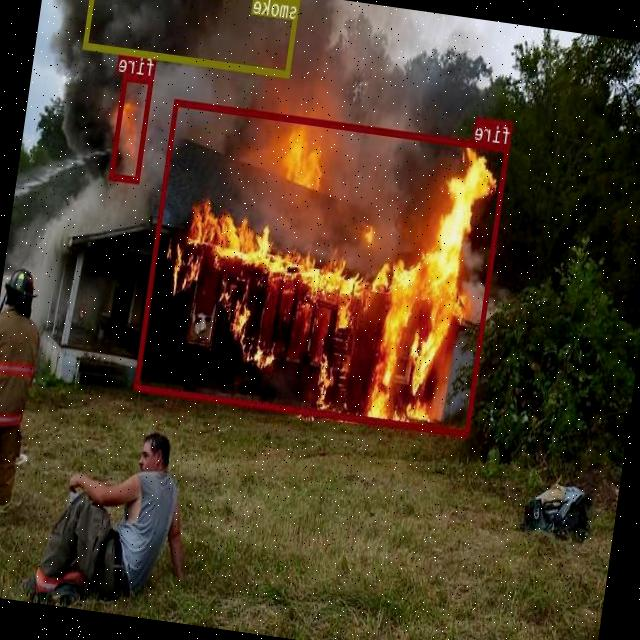fire: (134, 98, 510, 437), (111, 74, 155, 182)
smoke: (84, 0, 301, 76)
